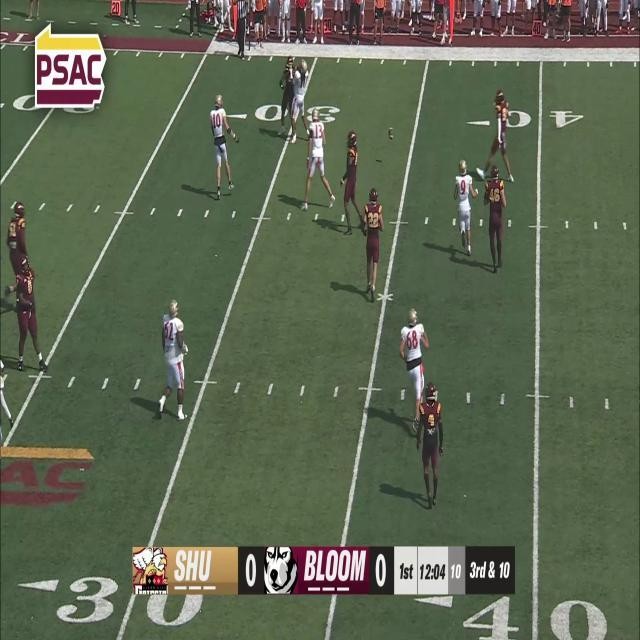football: (387, 124, 394, 140)
